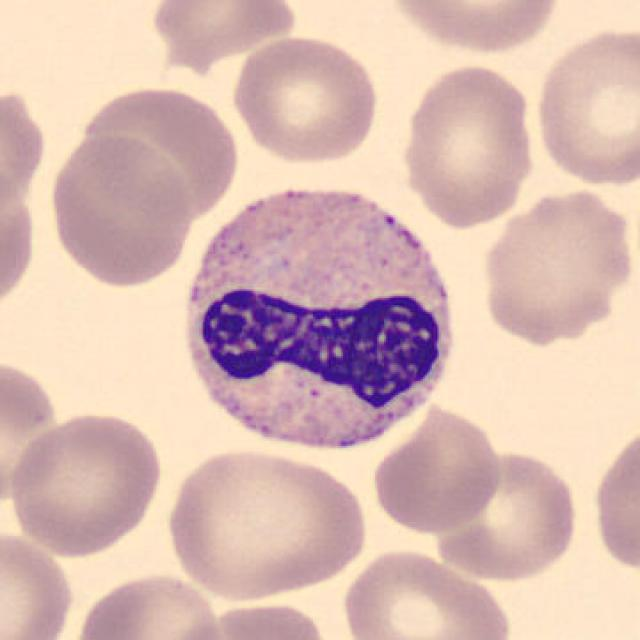Neutrophil: (169, 166, 469, 469)
RBC: (162, 444, 372, 605), (474, 180, 634, 347), (396, 60, 538, 231), (75, 81, 244, 224), (44, 131, 196, 289), (6, 407, 166, 557), (431, 446, 582, 584), (228, 31, 382, 166), (530, 21, 638, 192), (368, 402, 505, 536), (338, 545, 516, 640), (70, 569, 228, 640), (146, 0, 300, 71), (382, 0, 563, 56), (0, 353, 64, 511), (0, 525, 78, 640), (588, 420, 638, 580), (0, 81, 50, 219), (186, 597, 334, 640), (0, 165, 39, 322)
